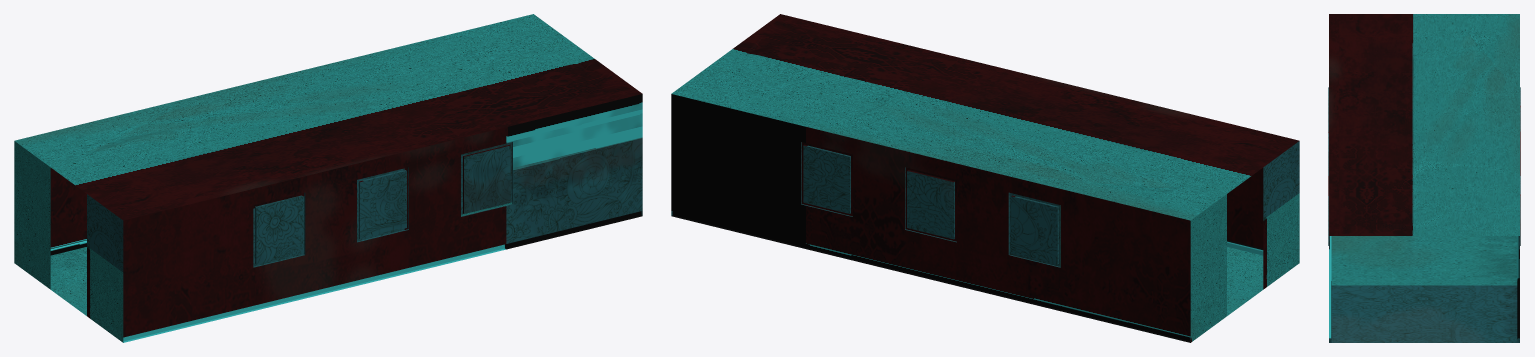
The model's file is sag1.fbx.
The picture shows the model from 3 angles, left to right: view 1: azimuth 30°, elevation 25°; view 2: azimuth 150°, elevation 25°; view 3: azimuth 270°, elevation 25°; orthographic projection. The views are drawn at different scales.
Parts seen in each view (by area): view 1: sagKoridor1; view 2: sagKoridor1; view 3: sagKoridor1.
Boxes of the visible parts, box(x1,y1,x2,y2) form: sagKoridor1: box(14, 14, 642, 342); sagKoridor1: box(671, 14, 1299, 342); sagKoridor1: box(1328, 14, 1520, 342).
Bounding box in the file's own units: 2000 × 451 × 733.
